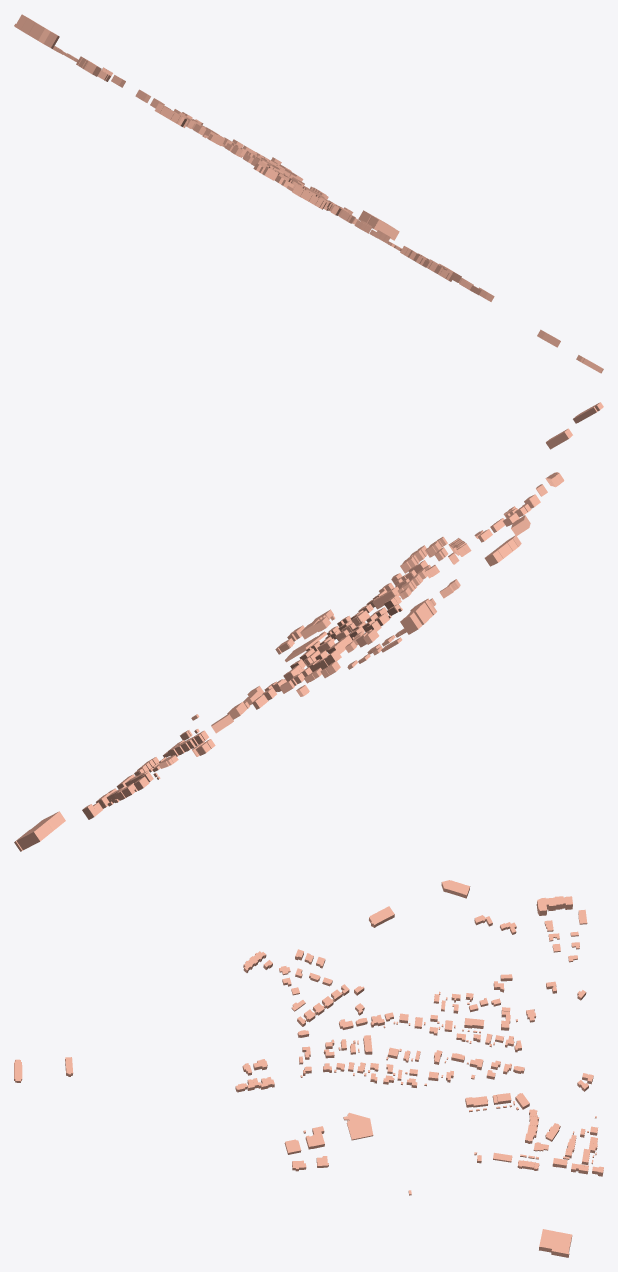
3 views of the same model, one above another, from view 1: azimuth 30°, elevation 25°; view 2: azimuth 150°, elevation 25°; view 3: azimuth 270°, elevation 25° (orthographic). The views are drawn at different scales.
Size of the model in its own units: 529 by 423 by 938.
